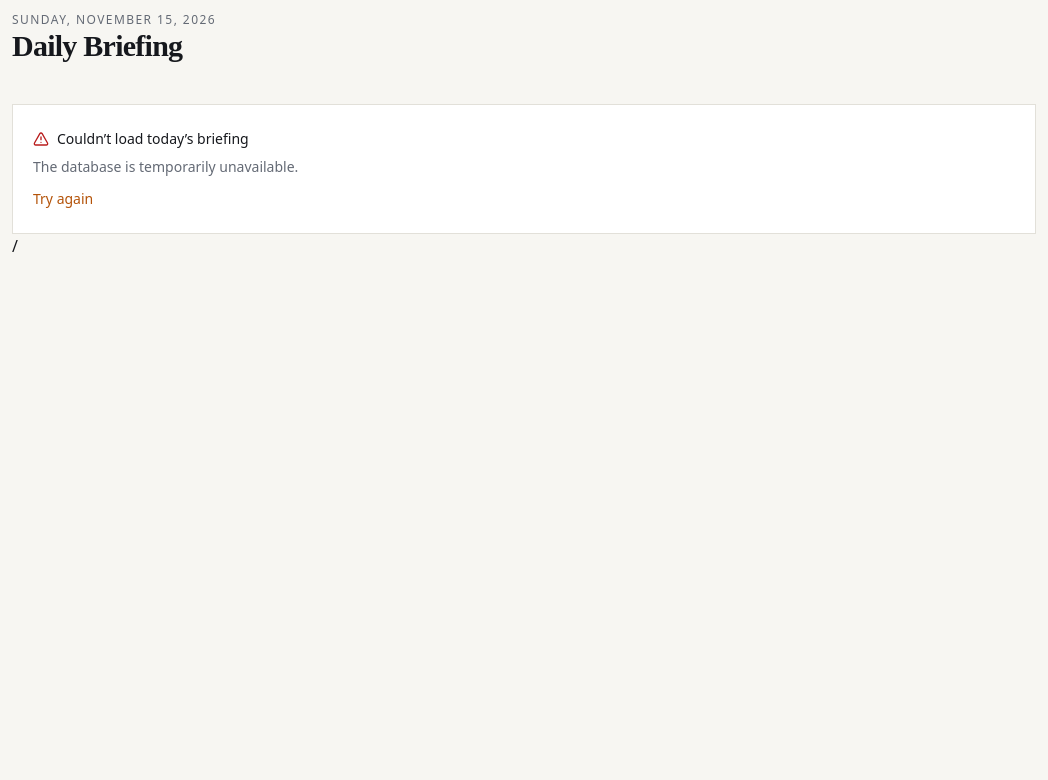
BriefingPage › shows API errors and recovers on retry
The width and height of the screenshot is (1048, 780).
Check: the message shows "The database is temporarily unavailable.", box x1=33 y1=157 x2=298 y2=176
Click the button "Try again": (63, 199) x1=33 y1=189 x2=93 y2=209
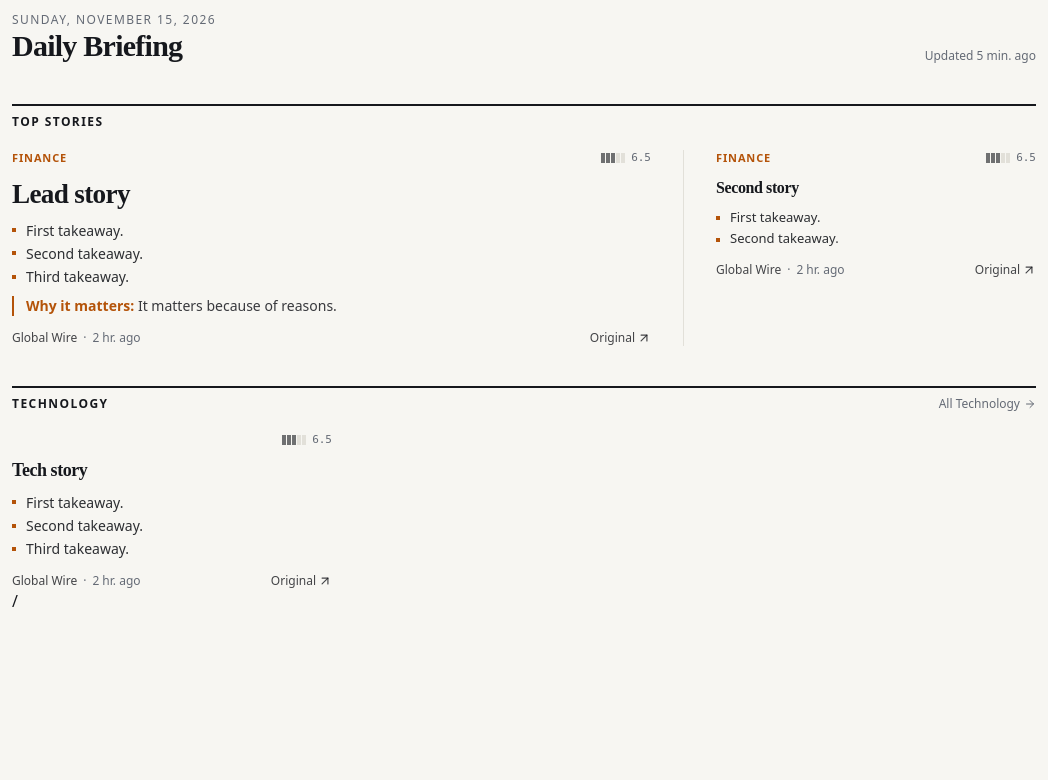
Check: the heading "Lead story" is shown, box x1=12 y1=178 x2=130 y2=208
